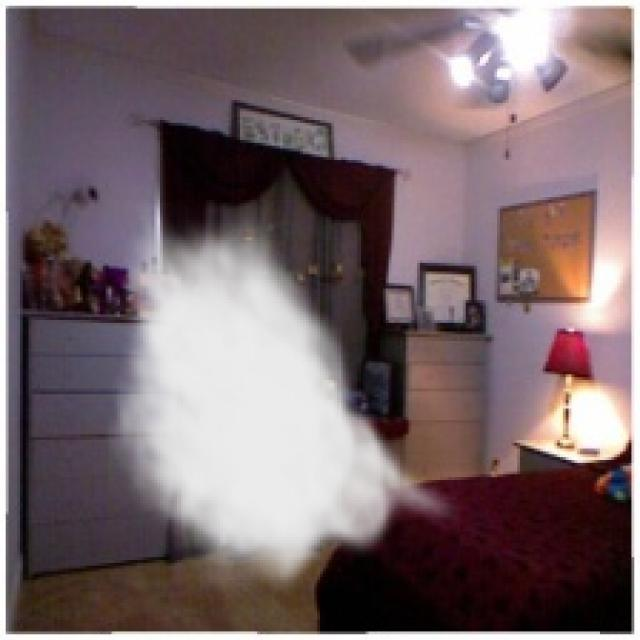smoke: (106, 200, 463, 600)
